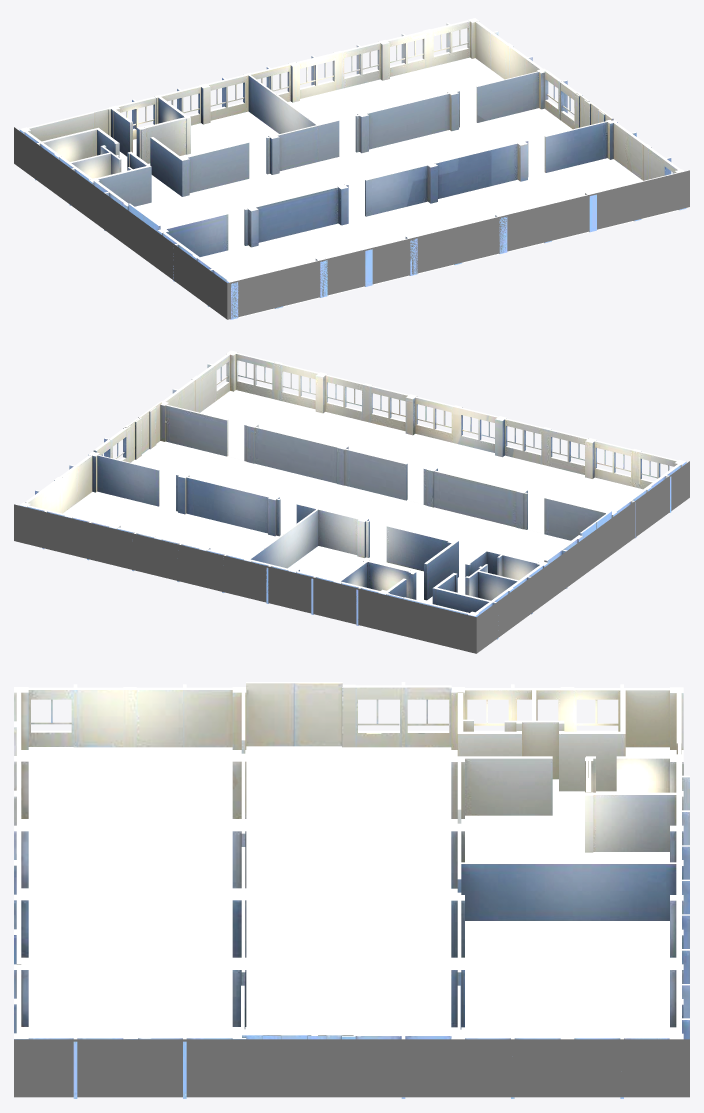
3 views of the same model, one above another, from view 1: azimuth 30°, elevation 25°; view 2: azimuth 150°, elevation 25°; view 3: azimuth 270°, elevation 25° (orthographic). The views are drawn at different scales.
Parts seen in each view (by area): view 1: hb_1floor_room01_3, hb_1floor_wlm_1, hb_1floor_room04_6, hb_1floor_zhongting_7, hb_1floor_room03_5, hb_1floor_room02_4, hb_1floor_guodao_2; view 2: hb_1floor_room01_3, hb_1floor_wlm_1, hb_1floor_zhongting_7, hb_1floor_room04_6, hb_1floor_room03_5, hb_1floor_room02_4, hb_1floor_guodao_2; view 3: hb_1floor_room01_3, hb_1floor_zhongting_7, hb_1floor_room04_6, hb_1floor_wlm_1, hb_1floor_room03_5, hb_1floor_room02_4, hb_1floor_guodao_2.
Boxes of the visible parts, x1,y1,x2,y2 form: hb_1floor_room01_3: [157, 119, 686, 319]; hb_1floor_wlm_1: [14, 127, 689, 319]; hb_1floor_room04_6: [247, 18, 546, 161]; hb_1floor_zhongting_7: [93, 70, 613, 249]; hb_1floor_room03_5: [108, 73, 318, 196]; hb_1floor_room02_4: [35, 127, 151, 206]; hb_1floor_guodao_2: [19, 108, 178, 201]; hb_1floor_room01_3: [160, 350, 686, 540]; hb_1floor_wlm_1: [14, 461, 689, 653]; hb_1floor_zhongting_7: [93, 401, 611, 588]; hb_1floor_room04_6: [19, 451, 317, 592]; hb_1floor_room03_5: [247, 508, 458, 625]; hb_1floor_room02_4: [432, 549, 548, 639]; hb_1floor_guodao_2: [388, 579, 492, 616]; hb_1floor_room01_3: [14, 684, 246, 1098]; hb_1floor_zhongting_7: [242, 682, 457, 1098]; hb_1floor_room04_6: [451, 863, 689, 1098]; hb_1floor_wlm_1: [14, 1039, 689, 1097]; hb_1floor_room03_5: [451, 754, 689, 888]; hb_1floor_room02_4: [451, 684, 625, 791]; hb_1floor_guodao_2: [552, 687, 683, 814].
Size of the model in its own units: 4.82 by 0.4002 by 3.85.
Materials: 7 (6 with a texture image).
